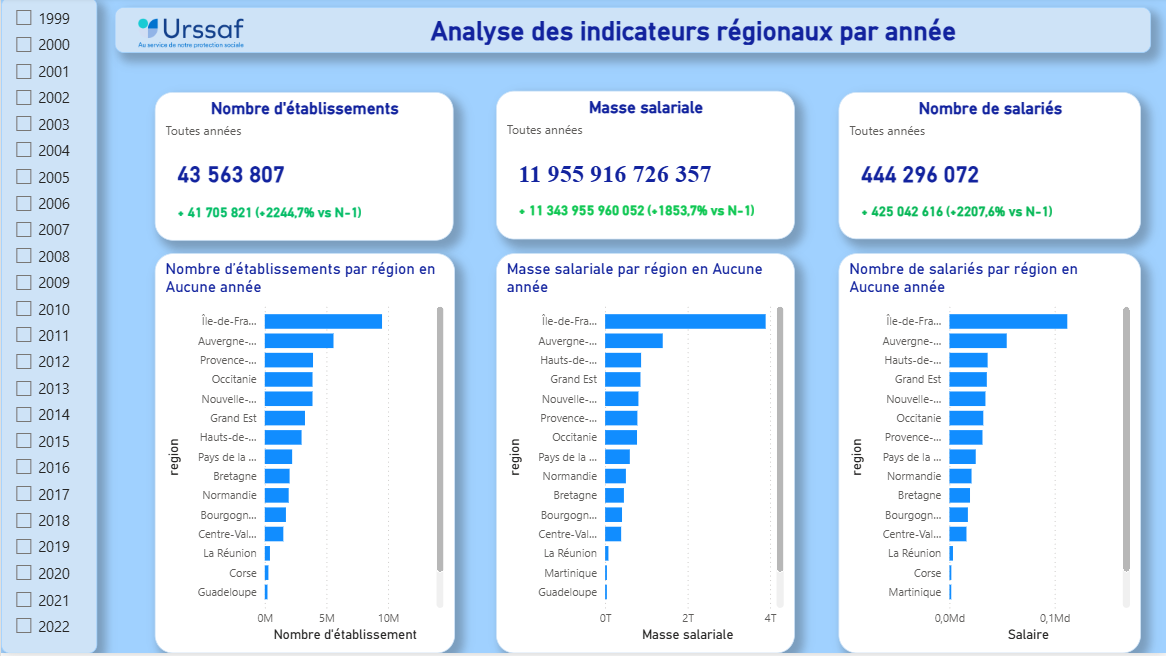

Layout of this report page (visuals, bound fields, positions):
{"tool":"powerbi","page":{"name":"Vision annuelle","canvas":[1280,720],"ordinal":0},"visuals":[{"type":"slicer","fields":{"Values":["nombre-etab-effectifs-salaries-et-masse-salariale-secteur-prive-zones-emploi.annee"]},"box":[0,0,105.7,720.4],"z":0},{"type":"cardVisual","title":"Nombre d''établissements","fields":{"Data":["Table.Total_Etablissements","Table.Variation_Etab"]},"box":[168.8,104.3,328,163.3],"z":1000},{"type":"clusteredBarChart","fields":{"Category":["Table.region"],"Y":["Table.Total_Etablissements"]},"box":[168.8,281.3,329.3,439.1],"z":2000},{"type":"cardVisual","title":"Masse salariale","fields":{"Data":["Table.Total_Masse_Salariale","Table.Variation_Masse"]},"box":[543.4,102.9,328,163.3],"z":3000},{"type":"cardVisual","title":"Nombre de salariés","fields":{"Data":["Table.Total_Salaries","Table.Variation_Salaries"]},"box":[919.4,104.3,332.1,161.9],"z":4000},{"type":"textbox","box":[124.9,11,1137.6,50.8],"z":5000},{"type":"image","box":[140,0,137.2,79.6],"z":6000},{"type":"clusteredBarChart","fields":{"Y":["Table.Total_Masse_Salariale"],"Category":["Table.region"]},"box":[543.4,281.3,328,439.1],"z":7000},{"type":"clusteredBarChart","fields":{"Category":["Table.region"],"Y":["Table.Total_Salaries"]},"box":[919.4,281.3,332.1,439.1],"z":8000}]}

Visuals, with their boxes in screenshot pixels (x1, y1, x2, y2), scaled from the page's 1280x720 canvas onto the 1166x656 screenshot:
slicer - nombre-etab-effectifs-salaries-et-masse-salariale-secteur-prive-zones-emploi.annee: bbox(0, 0, 96, 655)
"Nombre d''établissements" cardVisual: bbox(154, 95, 453, 244)
clusteredBarChart - Table.region x Table.Total_Etablissements: bbox(154, 256, 454, 655)
"Masse salariale" cardVisual: bbox(495, 94, 794, 243)
"Nombre de salariés" cardVisual: bbox(838, 95, 1140, 243)
textbox: bbox(114, 10, 1150, 56)
image: bbox(128, 0, 253, 73)
clusteredBarChart - Table.Total_Masse_Salariale x Table.region: bbox(495, 256, 794, 655)
clusteredBarChart - Table.region x Table.Total_Salaries: bbox(838, 256, 1140, 655)
